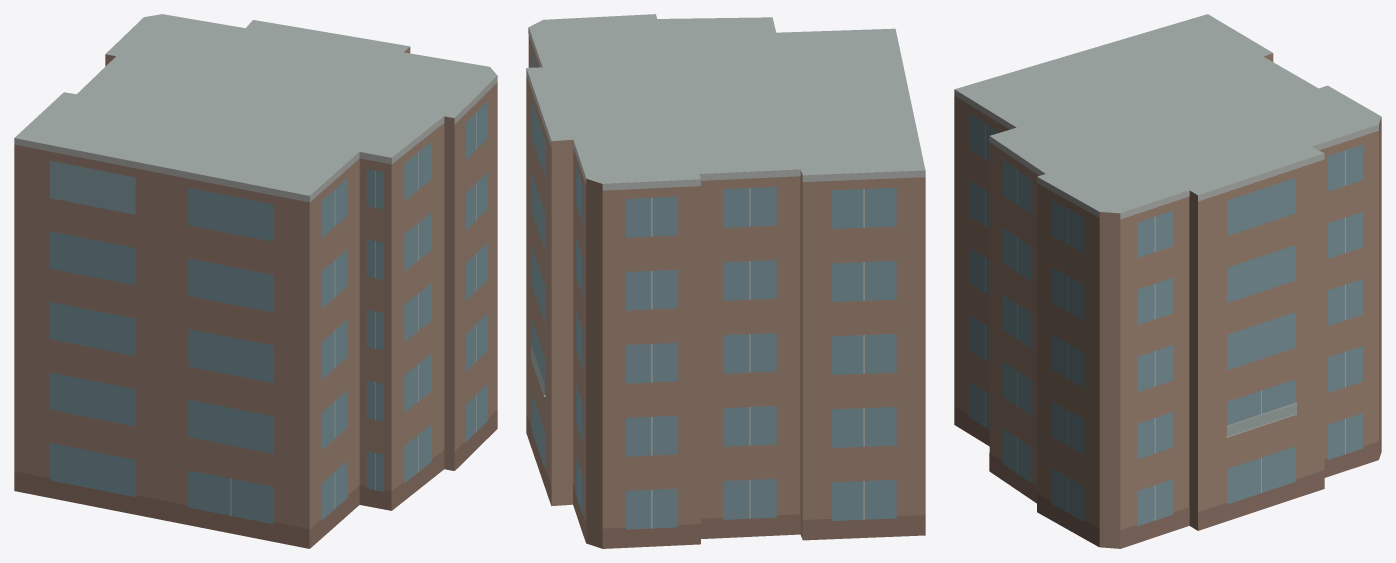
File: survey-upis-32996349.glb
3 views of the same model, side by side, from view 1: azimuth 30°, elevation 25°; view 2: azimuth 150°, elevation 25°; view 3: azimuth 270°, elevation 25° (orthographic). The views are drawn at different scales.
Visible parts, largest first — view 1: survey-upis-32996349.tmp; view 2: survey-upis-32996349.tmp; view 3: survey-upis-32996349.tmp.
Boxes of the visible parts, x1=… form: survey-upis-32996349.tmp: x1=14, y1=14, x2=497, y2=548; survey-upis-32996349.tmp: x1=526, y1=14, x2=925, y2=548; survey-upis-32996349.tmp: x1=954, y1=14, x2=1381, y2=548.
Bounding box in the file's own units: 16.83 × 13.2 × 15.24.
